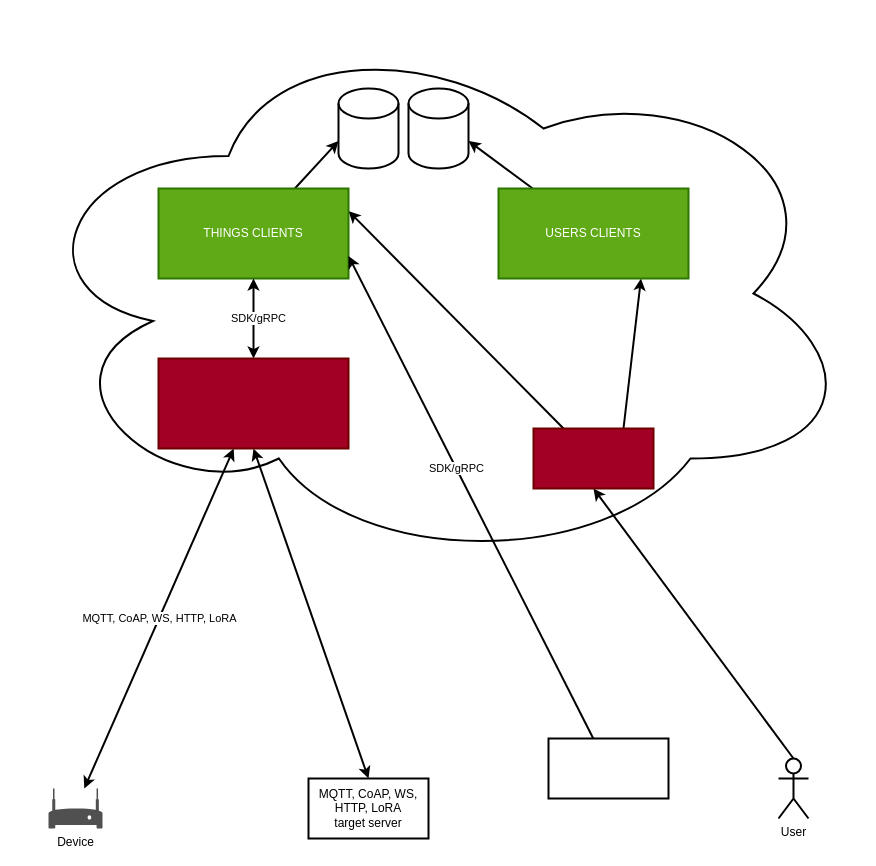
The diagram is 876 pixels wide and 866 high, and some of its shapes have lost their labels. The centre of each missing label's shape, as x and y in pixels:
"CUSTOM SVC" goes at pixel 608 768.
"mPROXY" goes at pixel 253 403.
"UI" goes at pixel 593 458.
